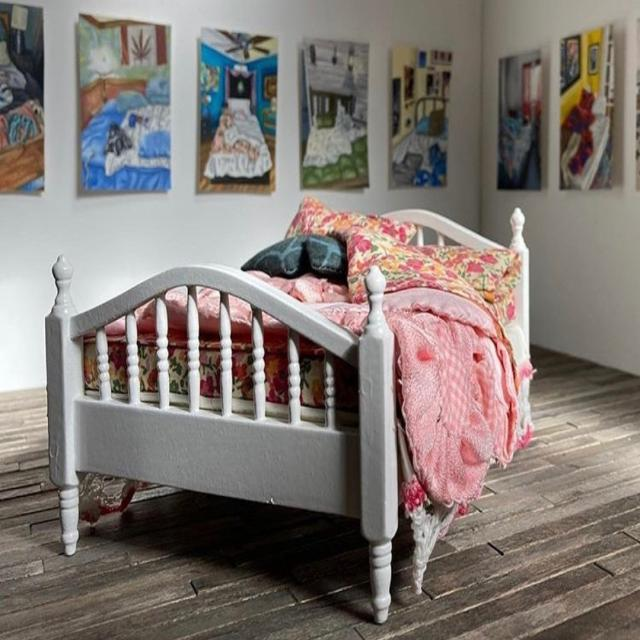bed: (70, 198, 530, 523)
